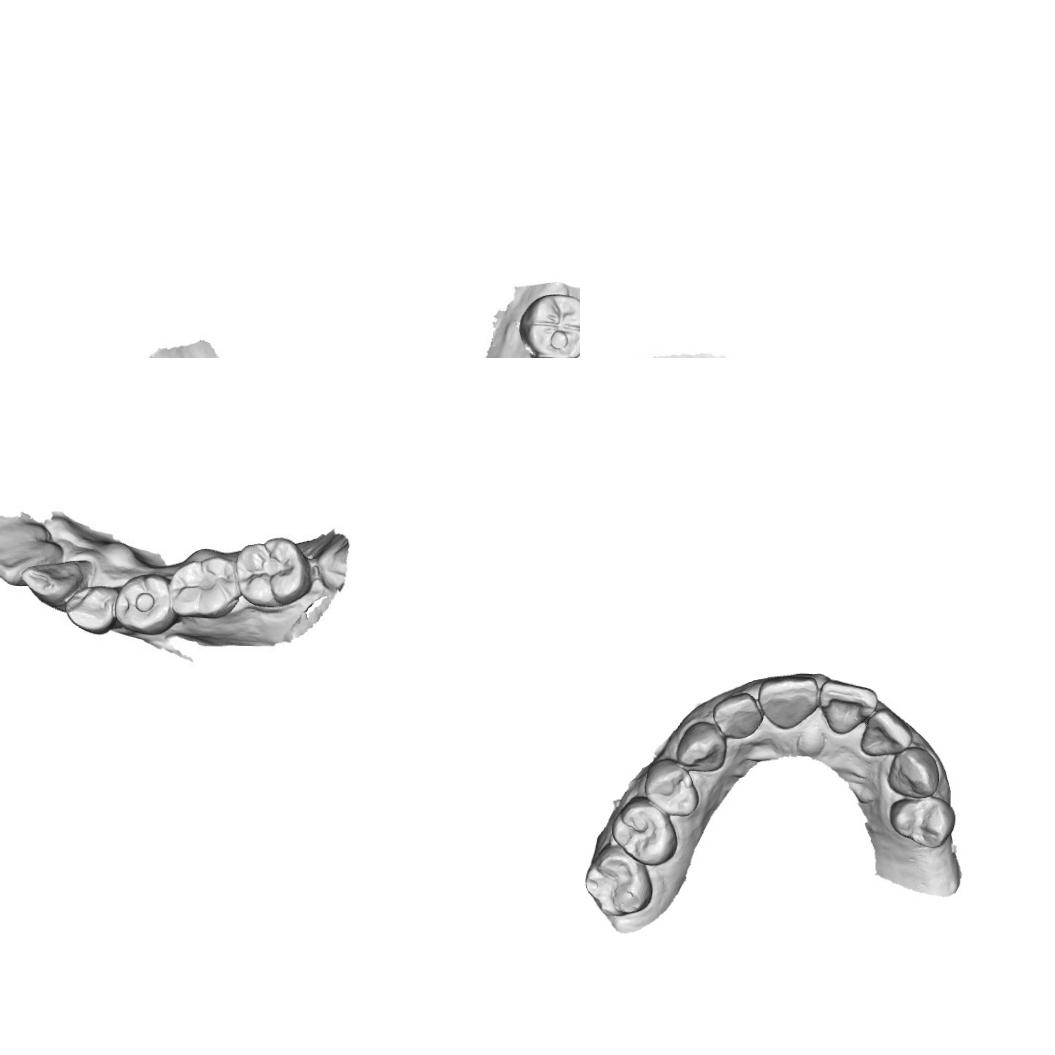canine: (25, 558, 96, 604), (886, 744, 940, 798), (674, 720, 727, 773)
incisor: (755, 672, 820, 730), (816, 678, 878, 736), (858, 707, 914, 759), (0, 536, 62, 581), (711, 690, 764, 740)
molar: (582, 840, 655, 918), (609, 794, 680, 868), (170, 556, 244, 621), (235, 538, 303, 608), (523, 293, 580, 357)
premolar: (886, 793, 958, 850), (642, 757, 700, 818), (117, 575, 173, 631), (68, 579, 119, 636)
